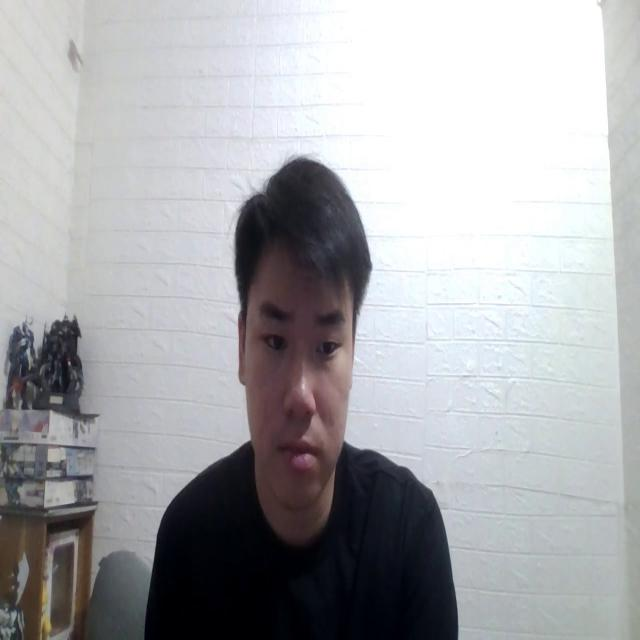student: (141, 148, 460, 640)
